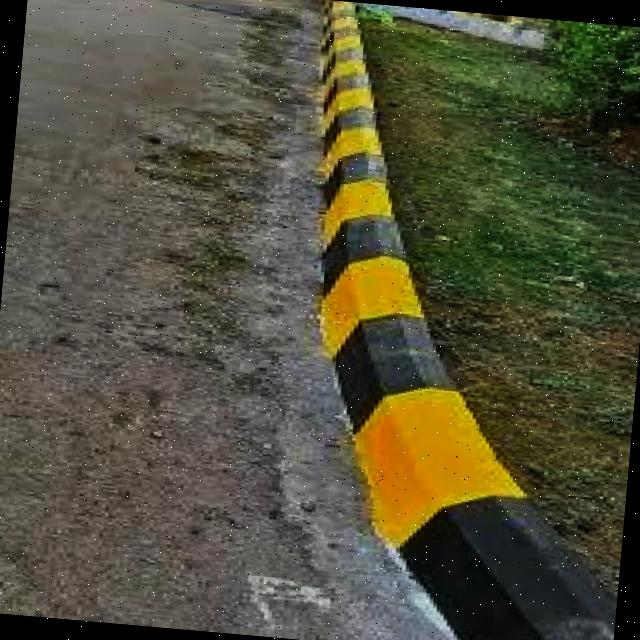curb: (321, 387, 634, 640), (284, 1, 438, 387)
